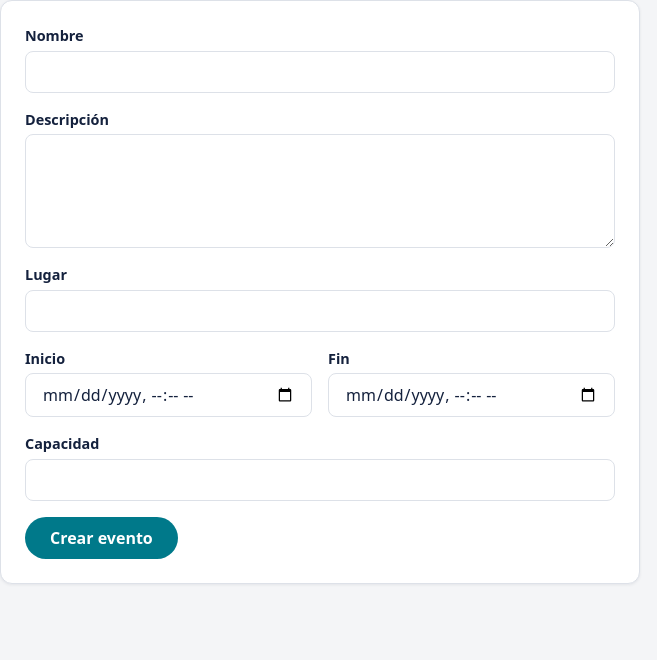
Test case: EventForm › shows the message of a rejected submit and enables the button again
This screenshot has width=657, height=660.
In the field labelled "Nombre": (320, 72) [25,51,615,93], type "  Taller de React  "
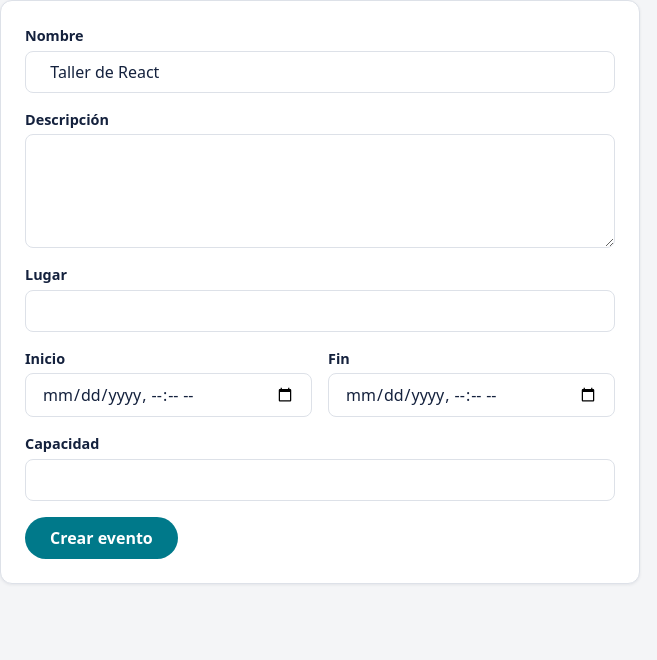
In the field labelled "Lugar": (320, 311) [25,290,615,332], type " Bogotá "
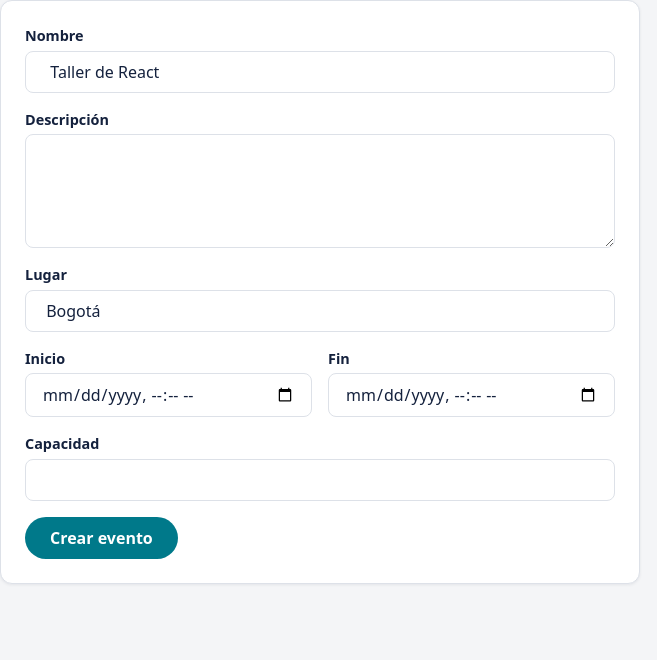
In the field labelled "Inicio": (168, 395) [25,373,312,417], type "2999-01-01T10:00"
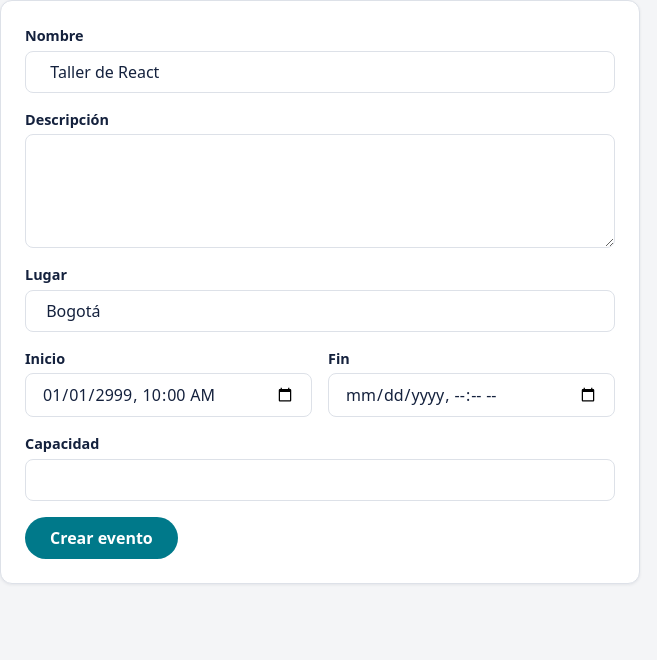
In the field labelled "Fin": (472, 395) [328,373,615,417], type "2999-01-01T12:00"
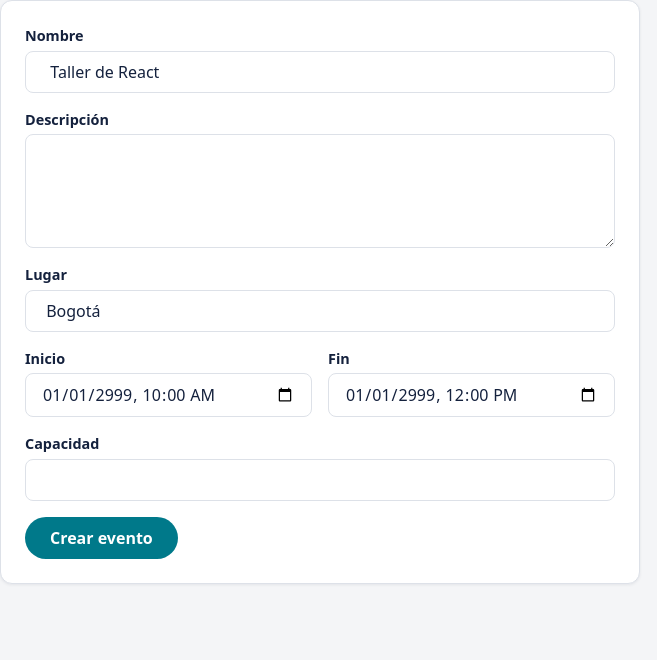
In the number field labelled "Capacidad": (320, 480) [25,459,615,501], type "25"
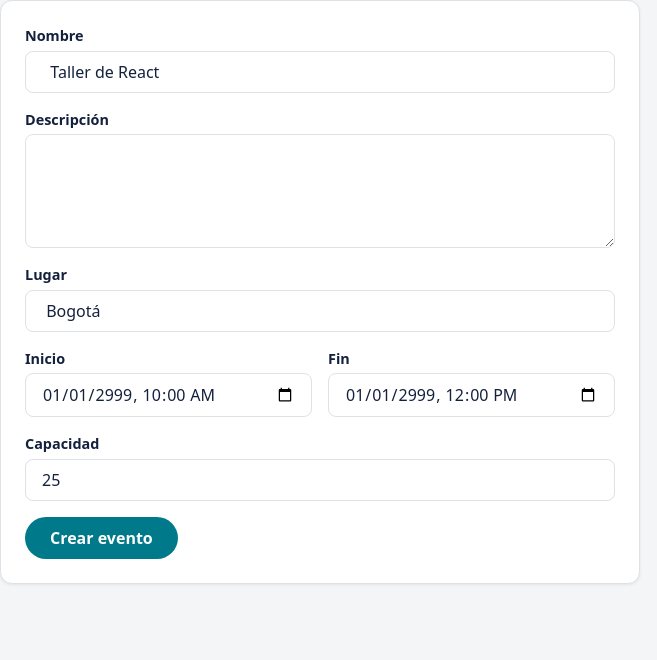
Click the button "Crear evento": click(101, 538) [25,517,178,559]
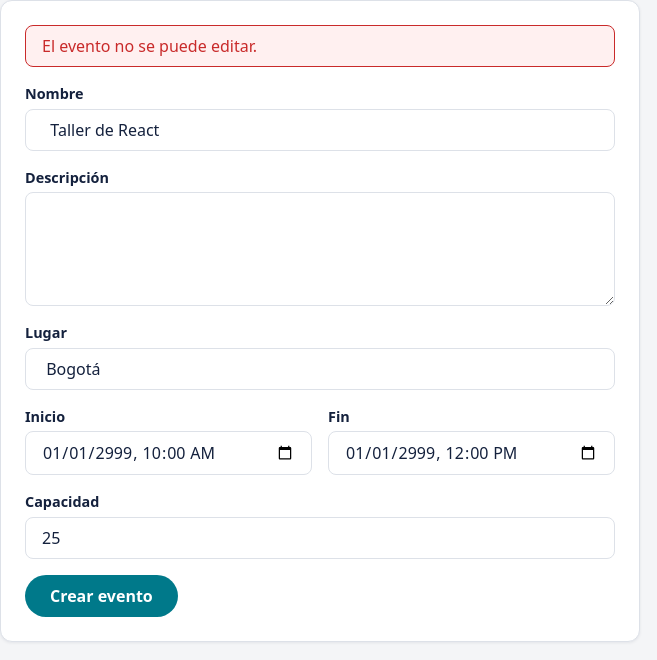
expect the button "Crear evento" is enabled: met, box [25,575,178,617]
expect the message reads "El evento no se puede editar.": met, box [42,35,257,57]
